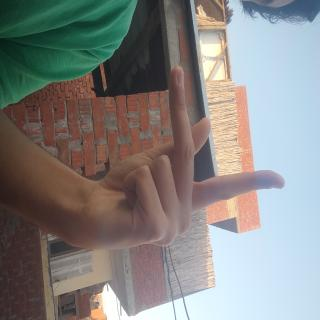DHAA: (47, 37, 196, 320)
